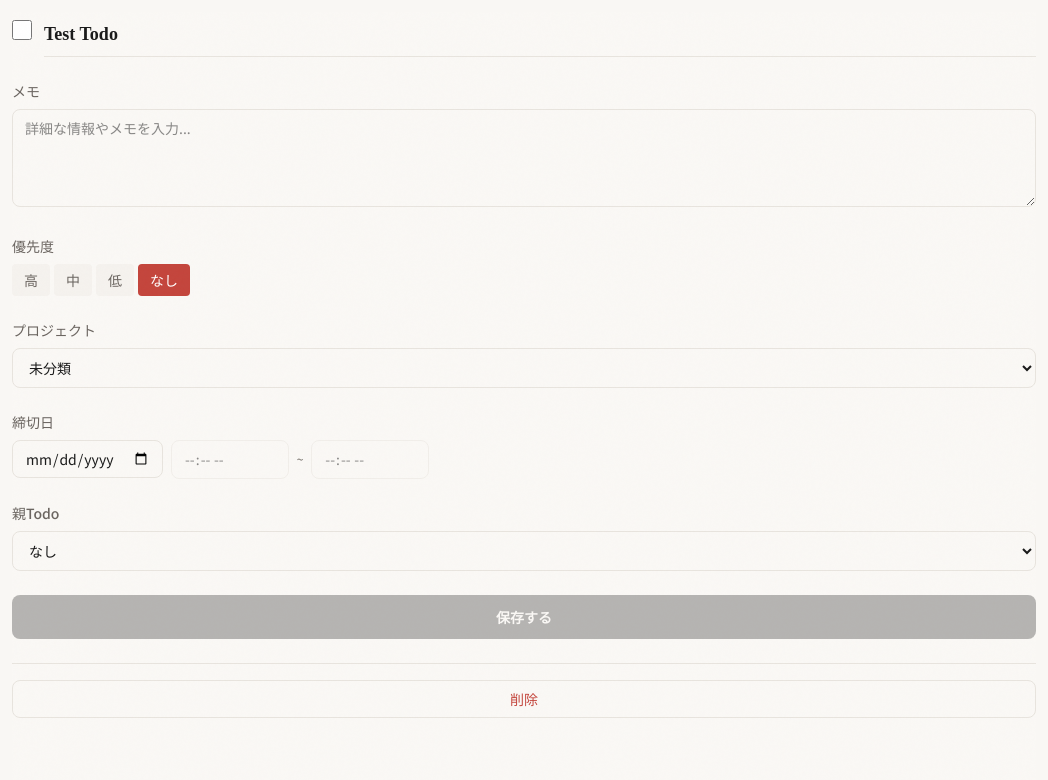
Test: TodoDetailForm › delete › should show confirmation dialog on delete click
Click the button "削除": x=524, y=699 12,680 -> 1036,718
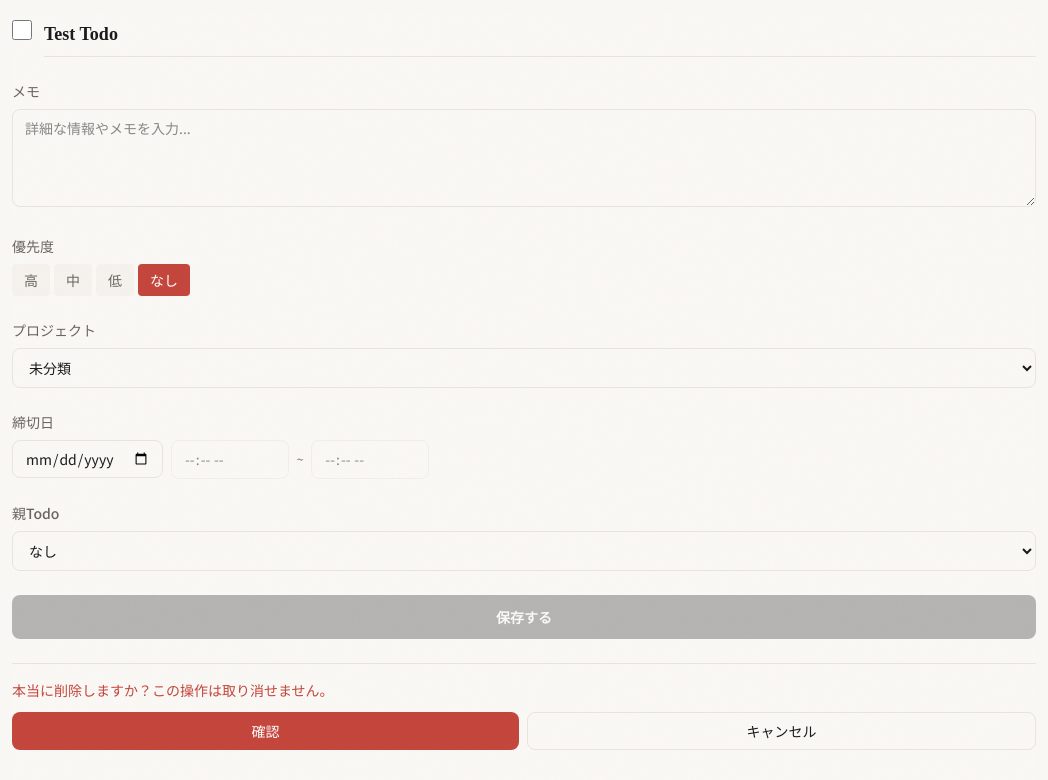
Check: the text "本当に削除しますか？この操作は取り消せません。" is shown, box 12,680 -> 334,700
